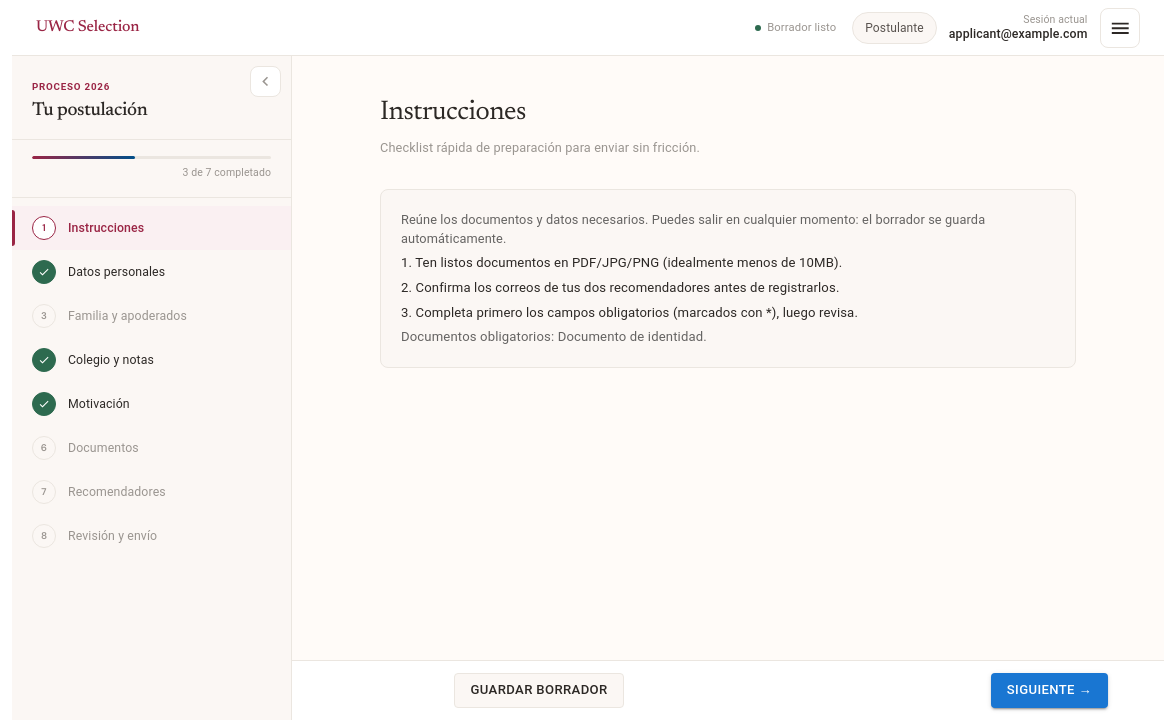
Test: ApplicantApplicationForm › blocks applicants from registering themselves as a recommender
Step 1. Click the button "7 Recomendadores" → coordinates (152, 492), box [12,470,291,514]
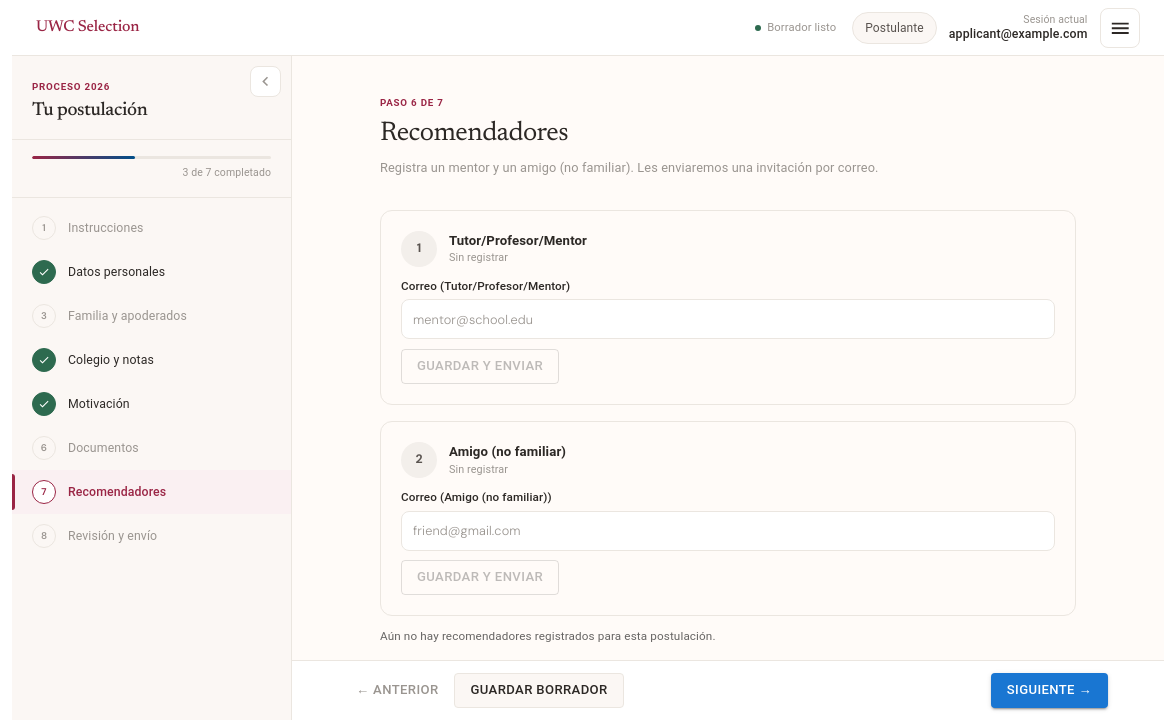
Step 2. Type " applicant@example.com " into the field named "Correo (Tutor/Profesor/Mentor)" → coordinates (728, 319), box [401,301,1055,337]
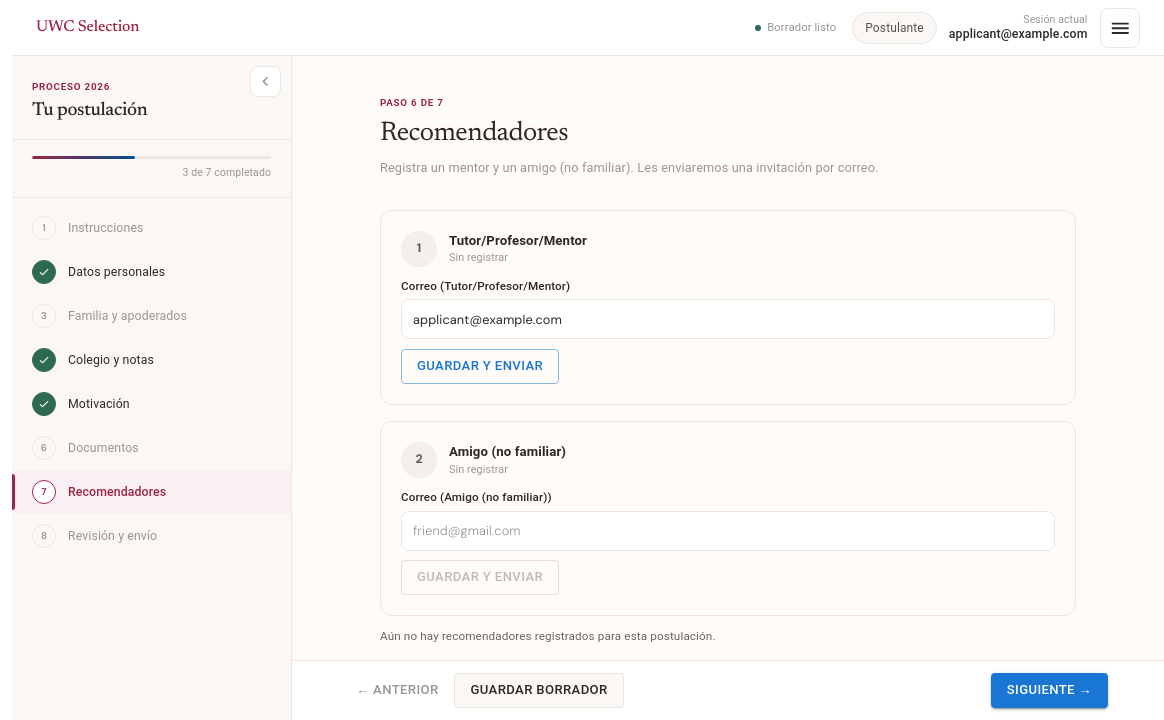
Step 3. Type "friend@example.com" into the field named "Correo (Amigo" → coordinates (728, 531), box [401,512,1055,549]
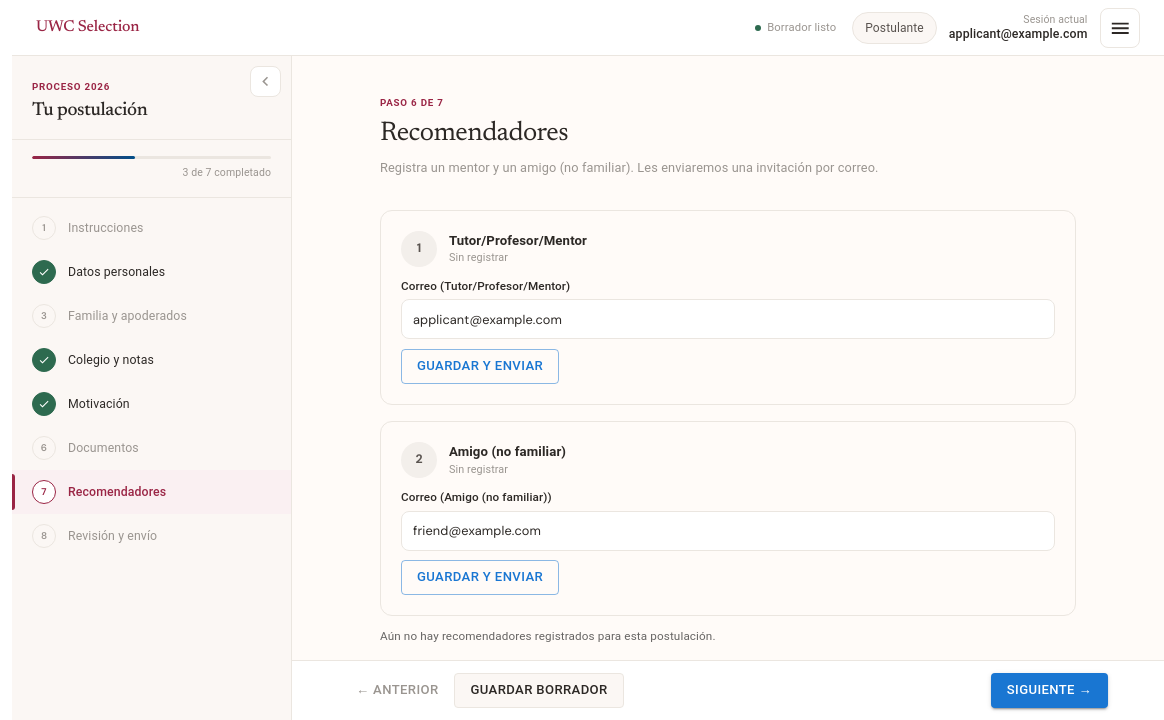
Step 4. Click the button "Guardar y enviar" below "Correo (Tutor/Profesor/Mentor)" → coordinates (480, 366), box [401,349,559,384]
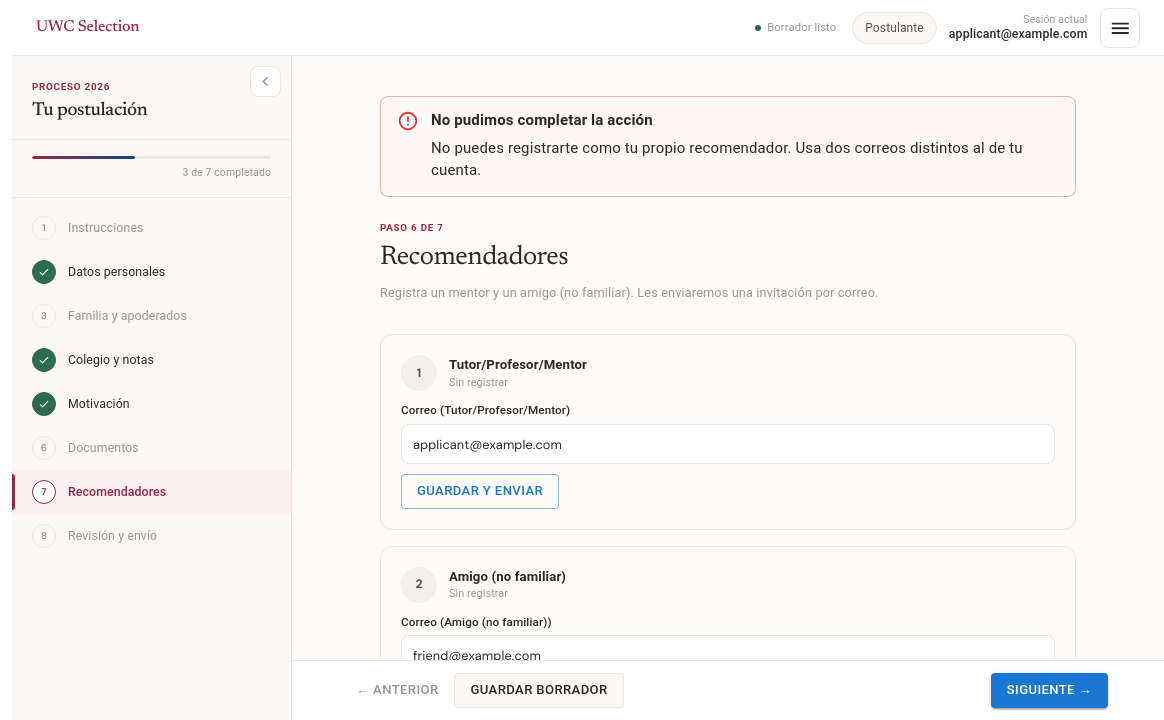
Now the text "No puedes registrarte como tu propio recomendador. Usa dos correos distintos al de tu cuenta." is shown, box [431,139,1023,179]
